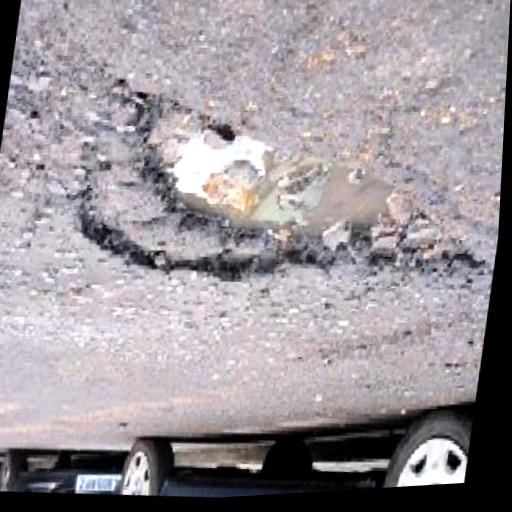pothole: (63, 48, 508, 320)
